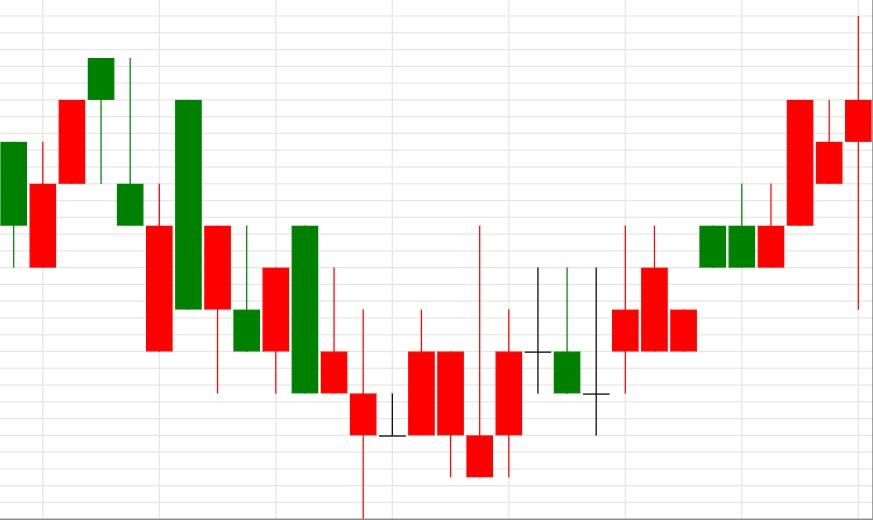hanging_man_fall: (0, 57, 116, 268)
inverse_hammer_rise: (291, 225, 494, 520)
